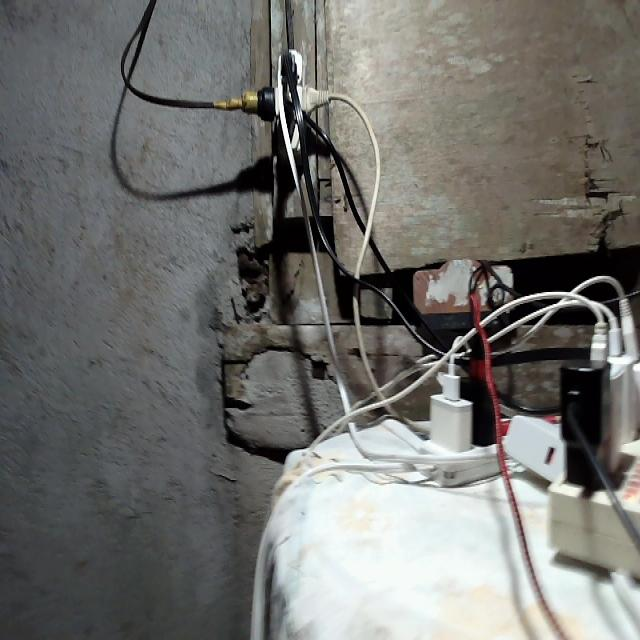-: (243, 45, 331, 155)
